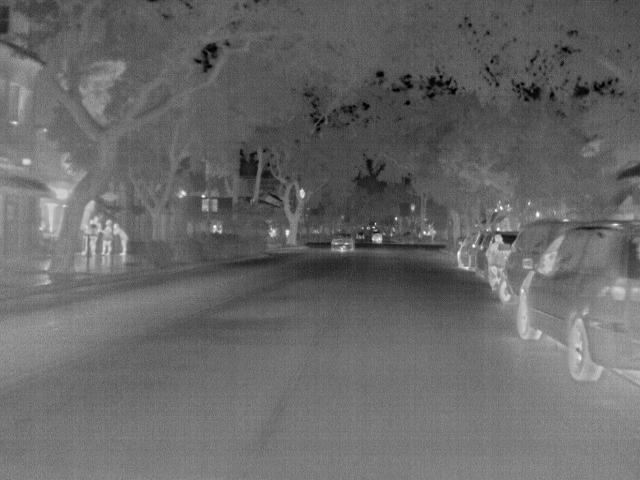car: (511, 227, 639, 384), (457, 226, 494, 274), (330, 233, 356, 254), (369, 230, 384, 244), (354, 230, 366, 241)
person: (489, 236, 506, 296), (95, 220, 113, 268), (113, 225, 129, 261)
